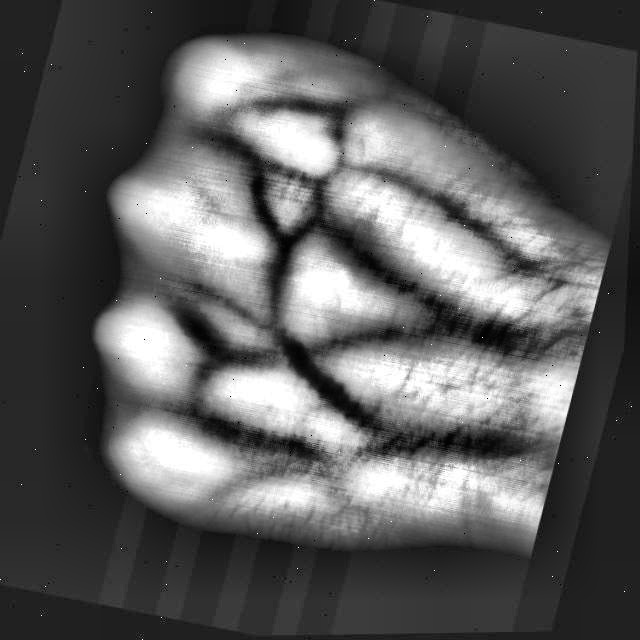Vein: (322, 217, 536, 369)
